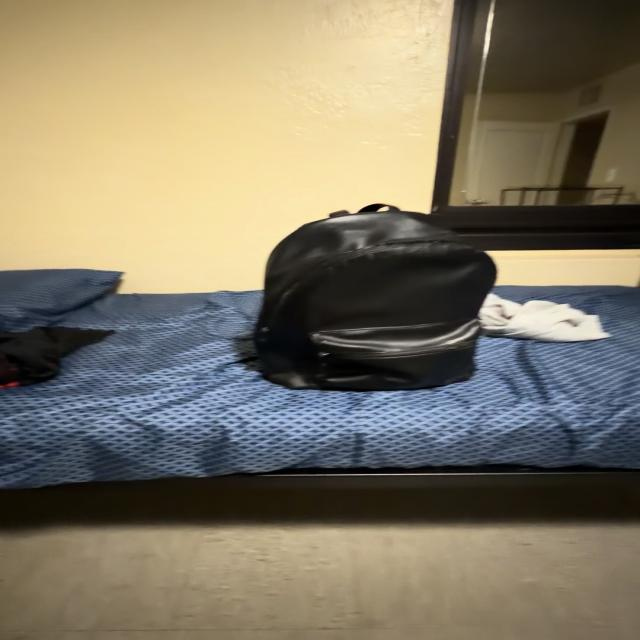backpack: (255, 204, 496, 390)
